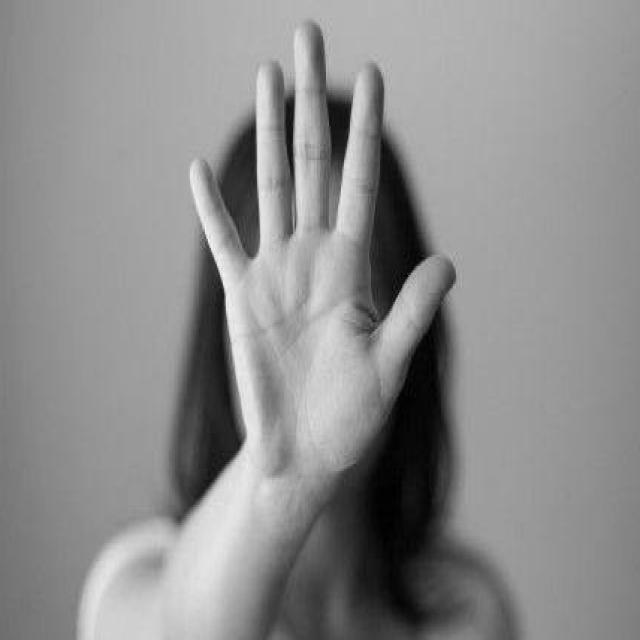stop: (185, 13, 461, 500)
